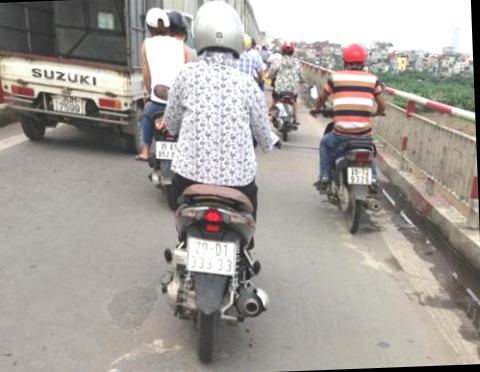Bien-so: (188, 242, 231, 281), (74, 96, 105, 120), (165, 148, 185, 169), (339, 184, 360, 203)
